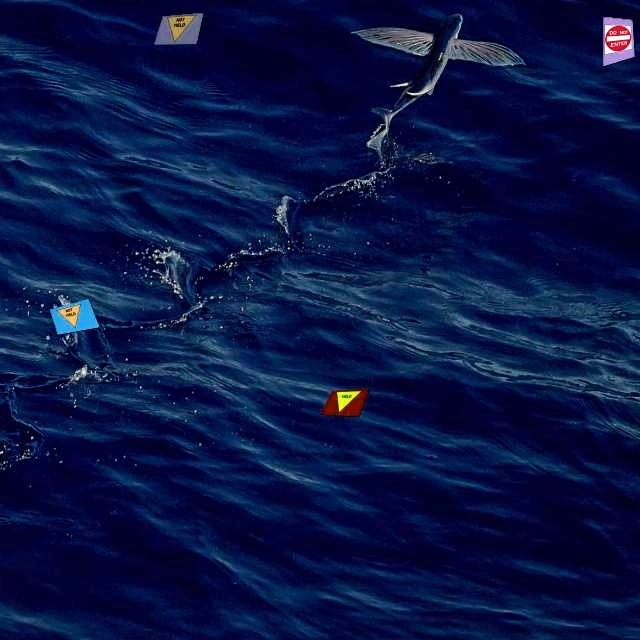DO_NOT_ENTER: (602, 25, 634, 54)
NOT_YIELD: (160, 14, 196, 44), (56, 304, 89, 332)
YIELD: (327, 388, 361, 416)
